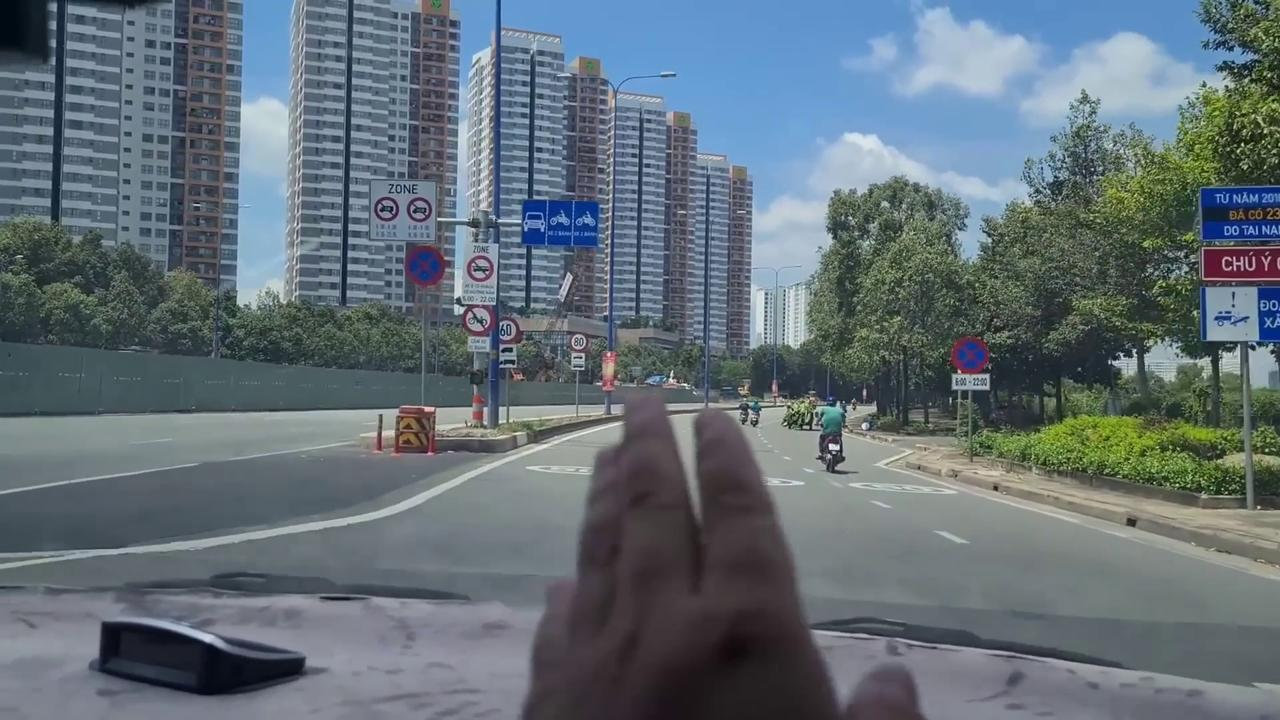Biển phụ: (952, 373, 991, 391), (498, 343, 518, 368), (467, 336, 491, 353), (571, 353, 585, 371)
Cấm cac phương tiện hoạt động trong khung giờ cố định: (368, 178, 438, 242), (463, 242, 497, 305)
Cấm dừng - Cấm đỗ: (404, 245, 445, 287), (949, 334, 992, 372)
Cấm xe máy: (462, 304, 497, 337)
GIơi hạn tốc độ 60Km/h: (497, 316, 522, 344)
Giới hạn tốc độ 80Km/h: (569, 331, 589, 352)
Làn đường cho từng xe: (521, 197, 599, 248)
